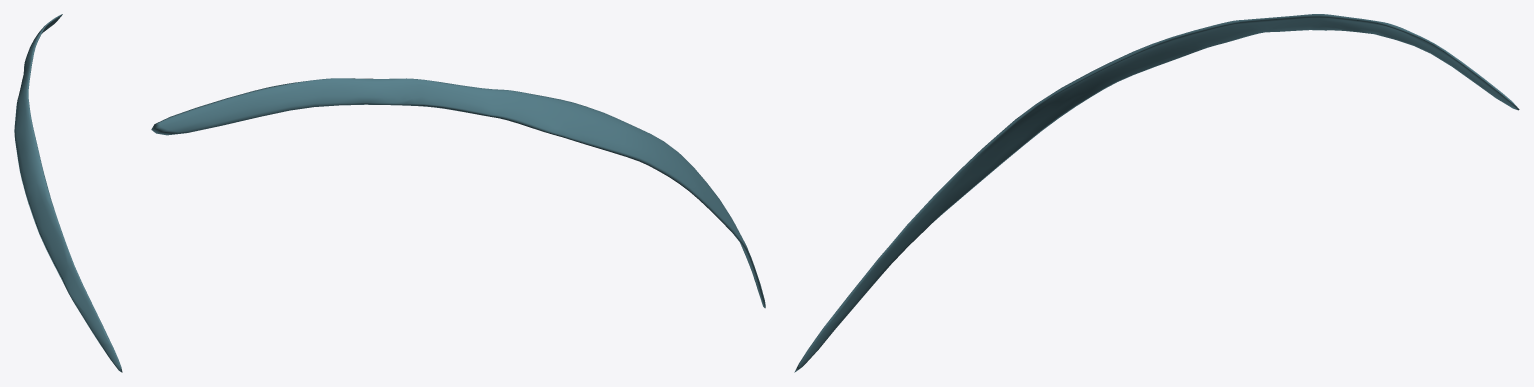
Rendered from External_abdominal_oblique_muscle-Iliac_insertion.r_Generated_M.glb.
3 views of the same model, side by side, from view 1: azimuth 30°, elevation 25°; view 2: azimuth 150°, elevation 25°; view 3: azimuth 270°, elevation 25° (orthographic). The views are drawn at different scales.
Visible parts, largest first — view 1: External_abdominal_oblique_muscle-Iliac_insertion.r_Generate; view 2: External_abdominal_oblique_muscle-Iliac_insertion.r_Generate; view 3: External_abdominal_oblique_muscle-Iliac_insertion.r_Generate.
Part boxes in pixels (x1,y1,x2,y2): External_abdominal_oblique_muscle-Iliac_insertion.r_Generate: (14,14,122,372); External_abdominal_oblique_muscle-Iliac_insertion.r_Generate: (151,78,765,308); External_abdominal_oblique_muscle-Iliac_insertion.r_Generate: (794,14,1519,372).
Bounding box in the file's own units: 0.0418 × 0.0562 × 0.0893.
